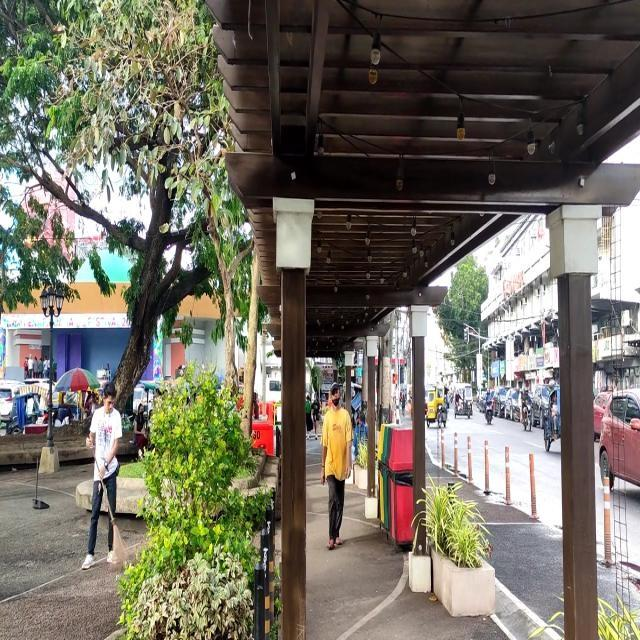hairnet: (330, 383, 340, 408)
